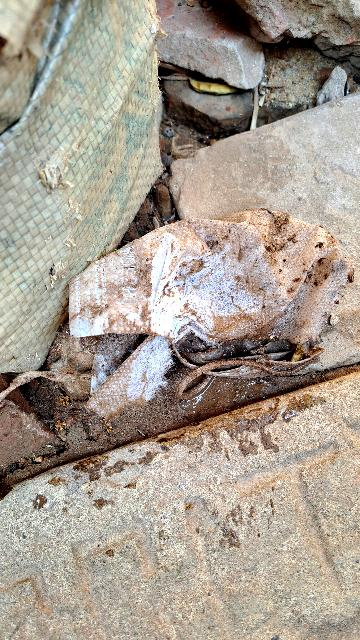mask: (33, 186, 360, 422)
